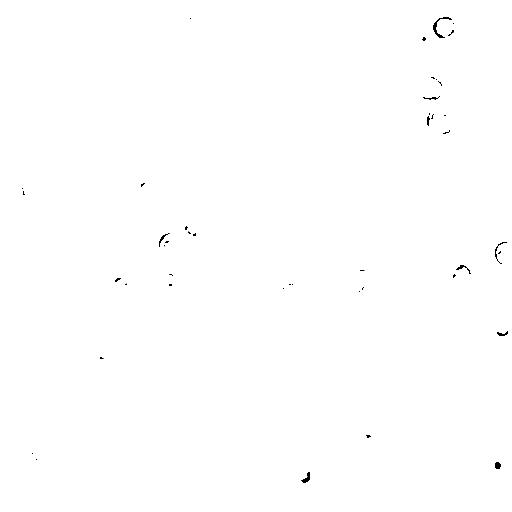micro-algae: (195, 3, 376, 185), (136, 37, 259, 165), (348, 314, 417, 389), (338, 42, 397, 98), (75, 254, 130, 306), (170, 427, 219, 474), (118, 401, 167, 447), (74, 3, 108, 35), (284, 435, 315, 469), (389, 285, 421, 317), (481, 449, 511, 483), (424, 106, 457, 136), (137, 239, 167, 271), (408, 23, 438, 53), (417, 75, 445, 102), (135, 178, 164, 204), (158, 233, 186, 259), (19, 177, 44, 204), (114, 479, 142, 503), (185, 5, 210, 31), (431, 15, 457, 40), (185, 59, 210, 84), (88, 47, 113, 71), (31, 442, 58, 463), (88, 477, 116, 497), (452, 263, 473, 289), (492, 238, 511, 266), (424, 263, 448, 284), (145, 383, 167, 405), (12, 17, 35, 38), (280, 283, 305, 302), (64, 133, 84, 155), (89, 357, 112, 374), (183, 219, 203, 237), (295, 465, 313, 485), (161, 270, 179, 289), (346, 277, 367, 293), (145, 498, 170, 511), (339, 383, 356, 400), (493, 319, 510, 336), (357, 432, 376, 447), (84, 233, 105, 246), (347, 242, 363, 258), (113, 276, 129, 291), (358, 257, 374, 271)
